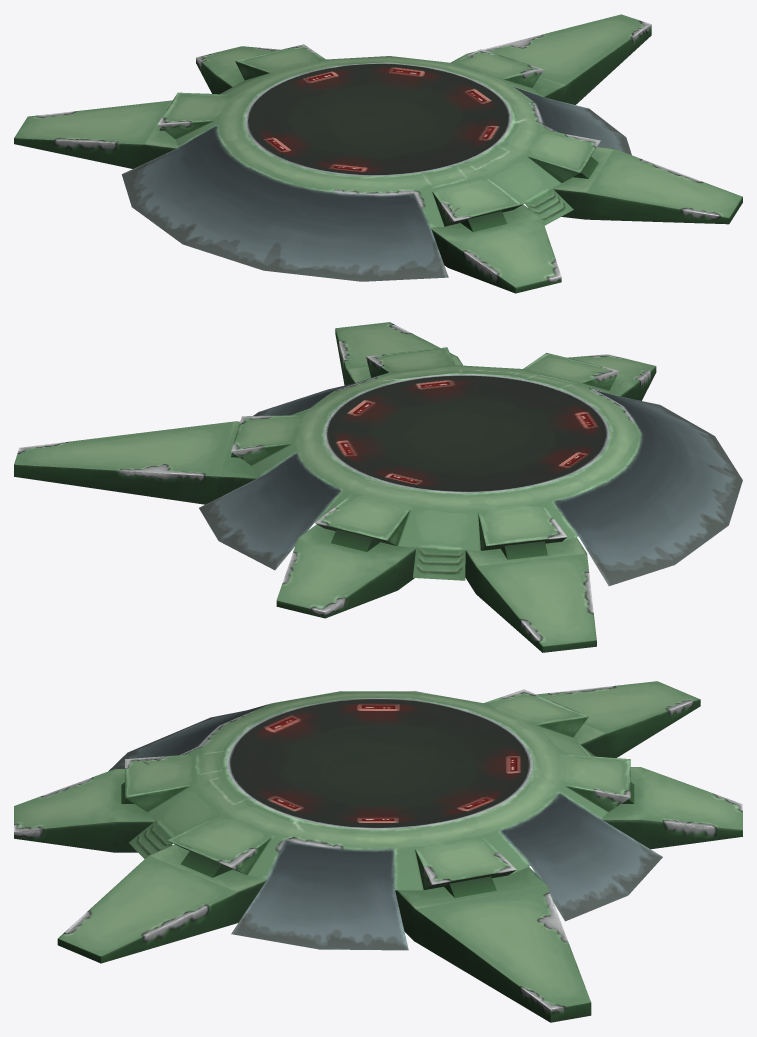
The model's file is LandingPad.fbx.
3 renders of one model, top to bottom at view 1: azimuth 30°, elevation 25°; view 2: azimuth 150°, elevation 25°; view 3: azimuth 270°, elevation 25°, orthographic. The views are drawn at different scales.
Parts seen in each view (by area): view 1: landingPad1; view 2: landingPad1; view 3: landingPad1.
Boxes of the visible parts, x1,y1,x2,y2 form: landingPad1: (14,14,742,293); landingPad1: (14,322,742,652); landingPad1: (14,681,742,1022).
Bounding box in the file's own units: 38.41 × 3.43 × 35.57.
Materials: 1 (1 with a texture image).
